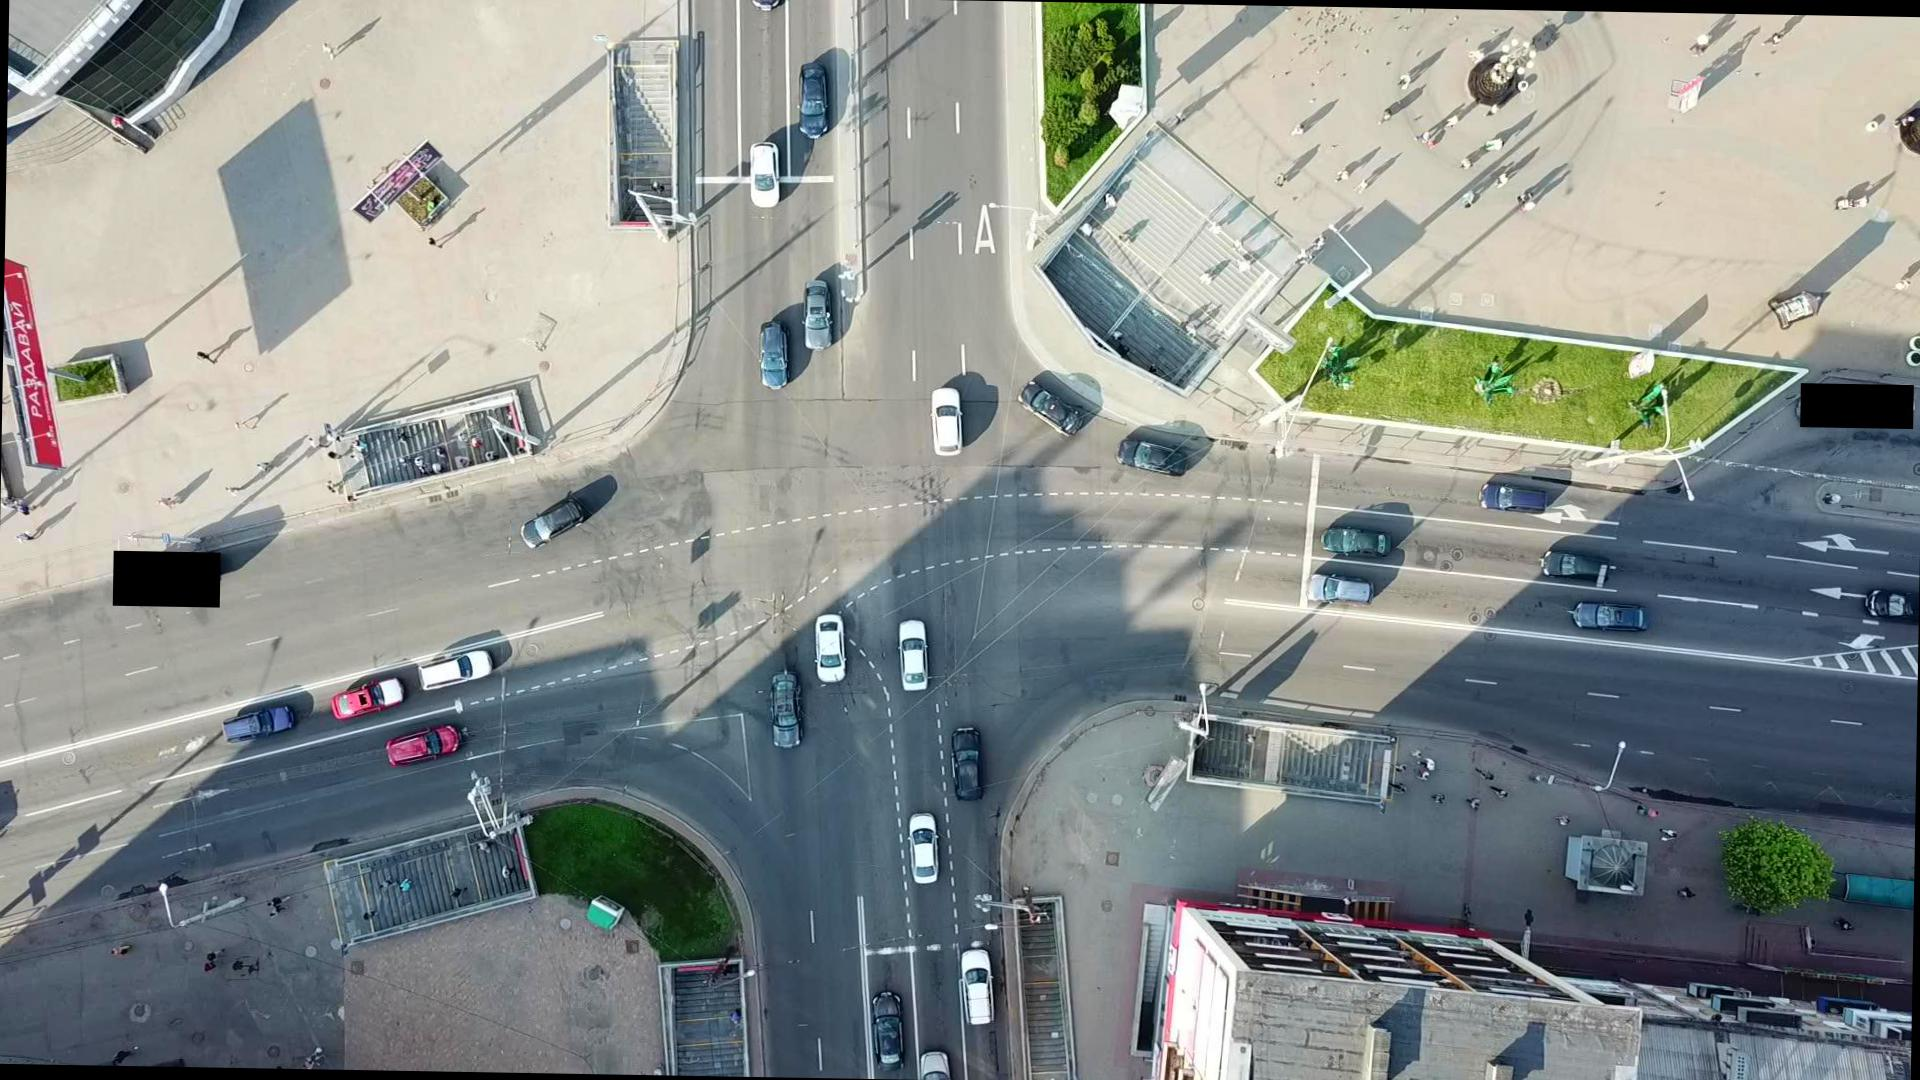vehicle: (1017, 380, 1084, 437), (520, 494, 585, 550), (330, 674, 404, 721), (418, 647, 494, 690), (386, 723, 460, 767), (1115, 437, 1191, 478), (870, 988, 908, 1070), (948, 726, 986, 802), (221, 703, 295, 742), (959, 947, 996, 1024), (797, 60, 831, 139), (768, 670, 802, 748), (1320, 524, 1393, 560), (758, 320, 794, 390), (906, 812, 941, 884), (929, 386, 964, 456), (1574, 600, 1650, 632), (1538, 550, 1614, 582), (897, 616, 930, 689), (748, 142, 784, 208), (813, 613, 846, 681), (1304, 572, 1374, 604), (1476, 482, 1547, 513), (802, 280, 832, 349)
